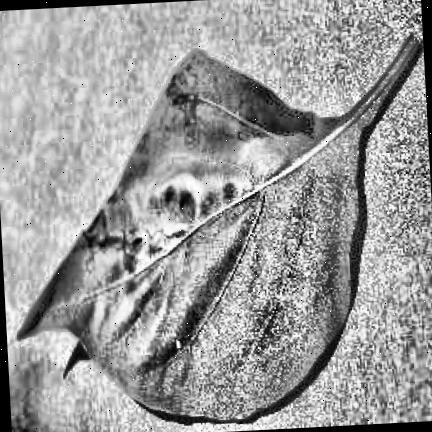leaf: (21, 38, 418, 423)
